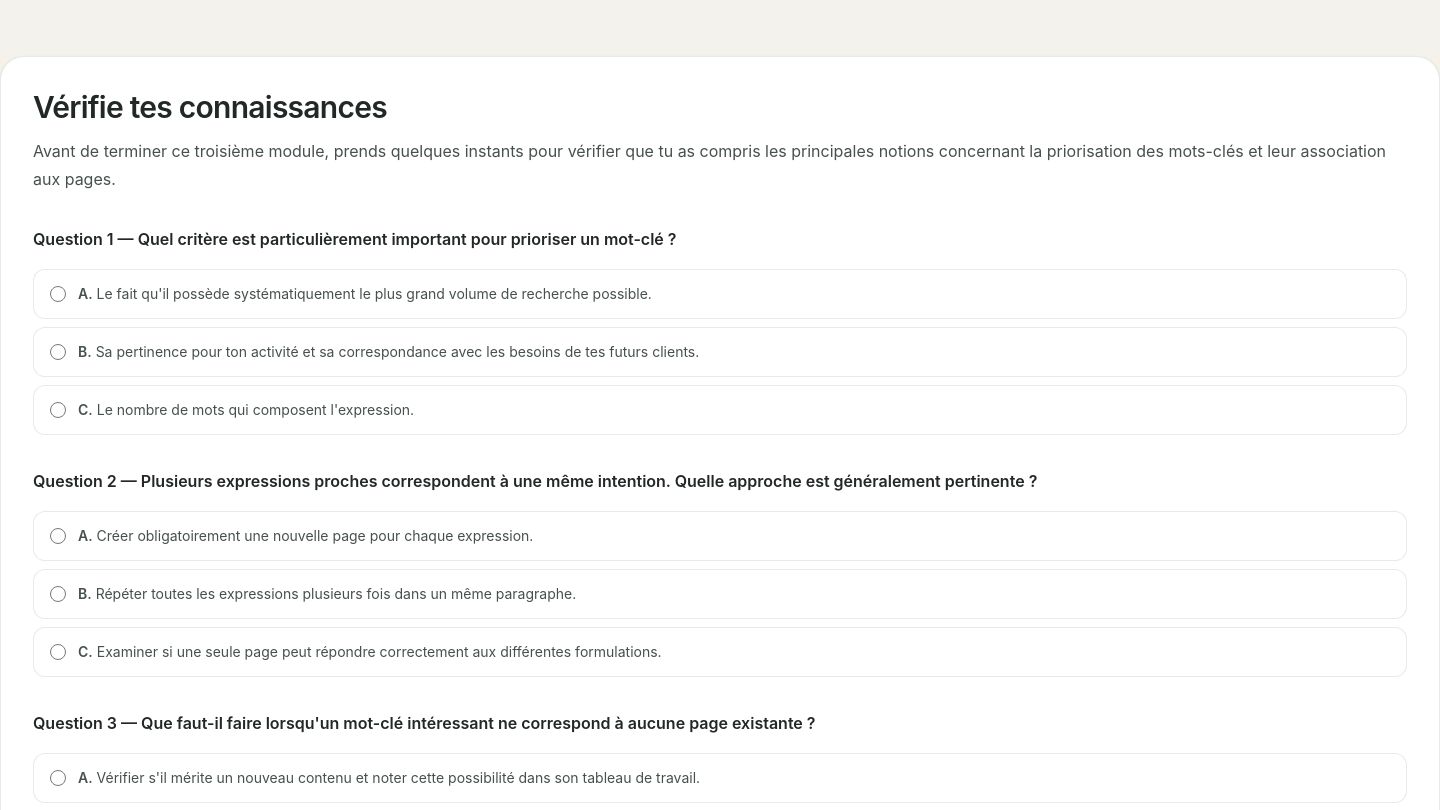
Test: questionnaire de la neuvième leçon SEO › corrige les quatre questions après validation
Expected: the text "Question 4 : C." is not shown
Click the radio button named "quiz-question-1" at (58, 352), box [50,344,66,360]
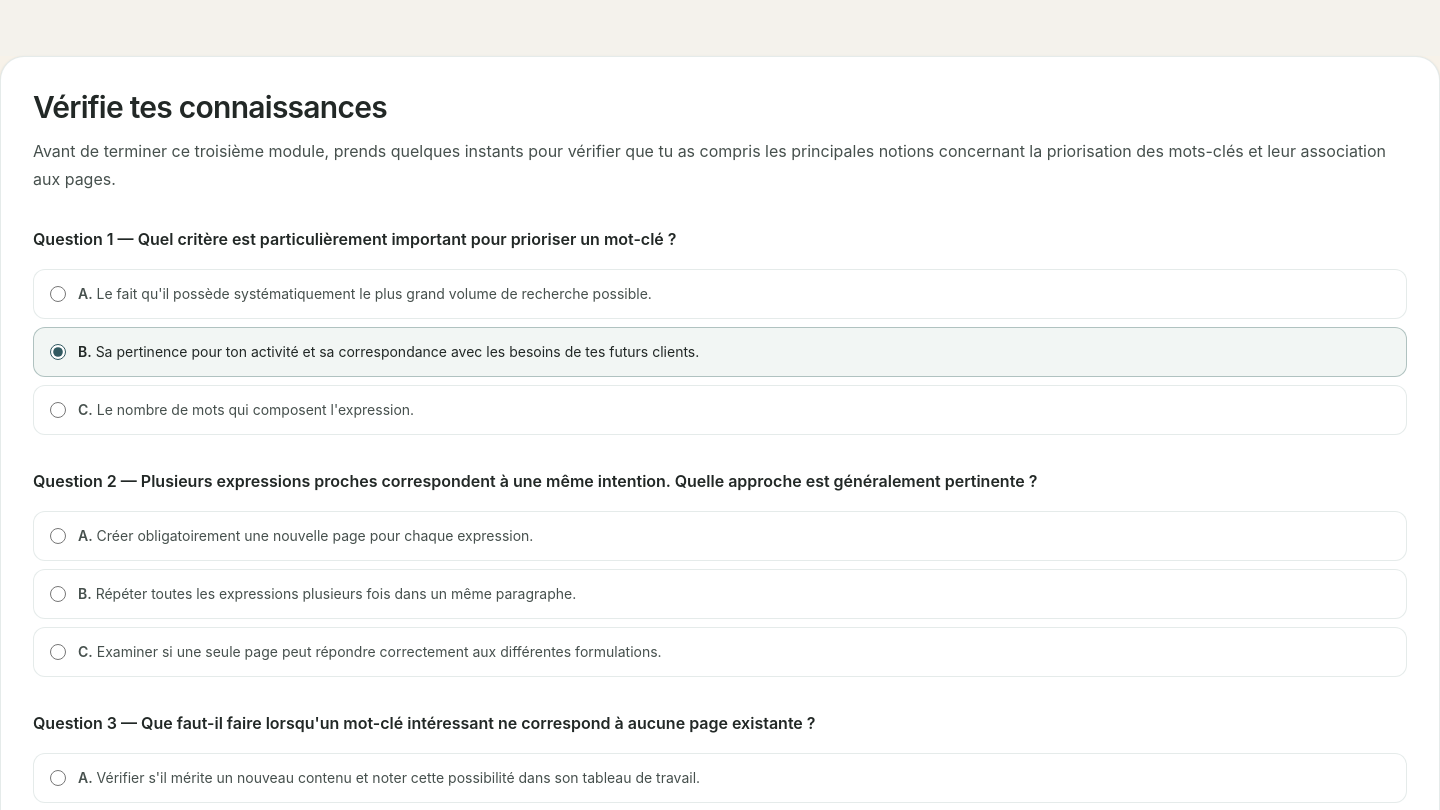
Click the radio button named "quiz-question-2" at (58, 652), box [50,644,66,660]
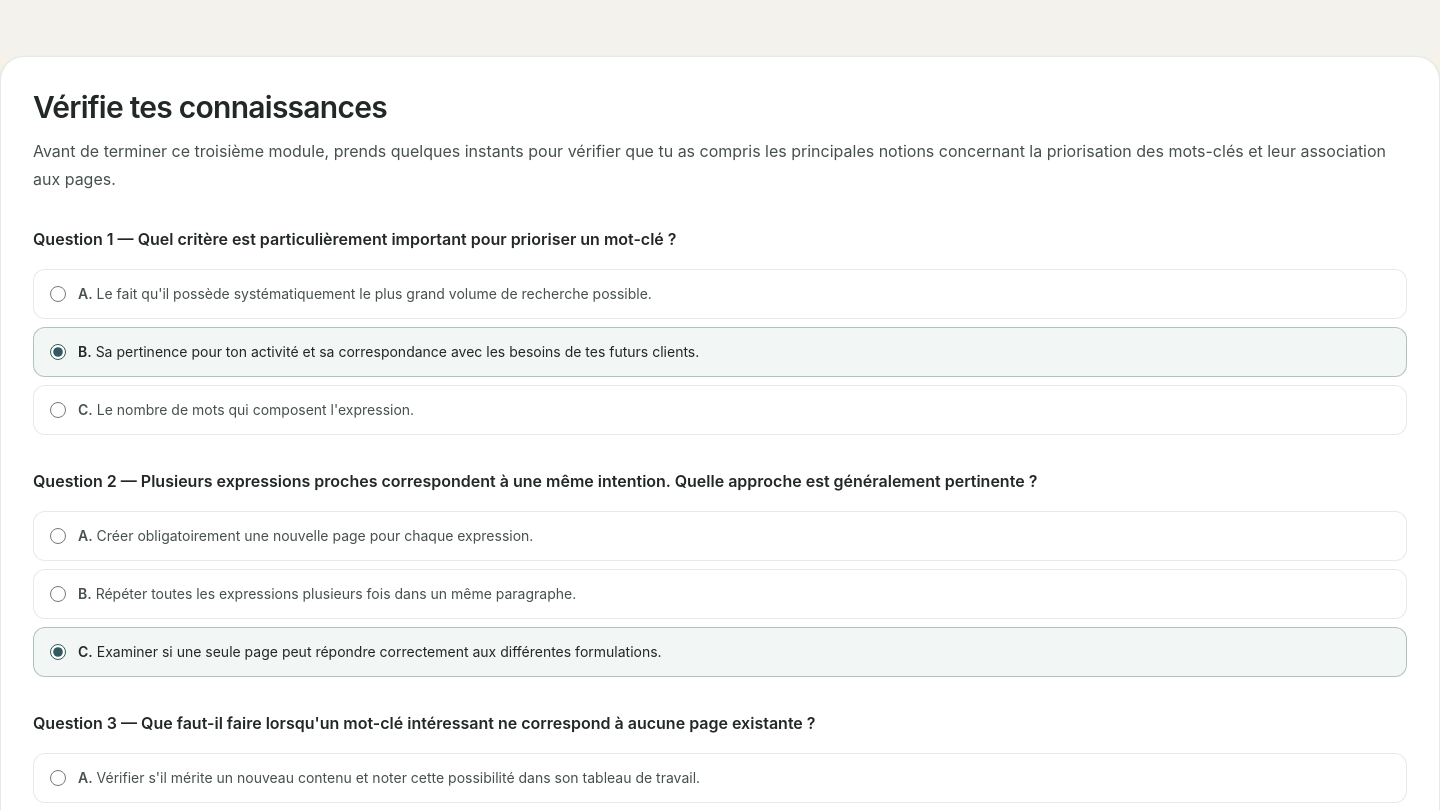
Click the radio button named "quiz-question-3" at (58, 778), box [50,770,66,786]
(page scrolled)
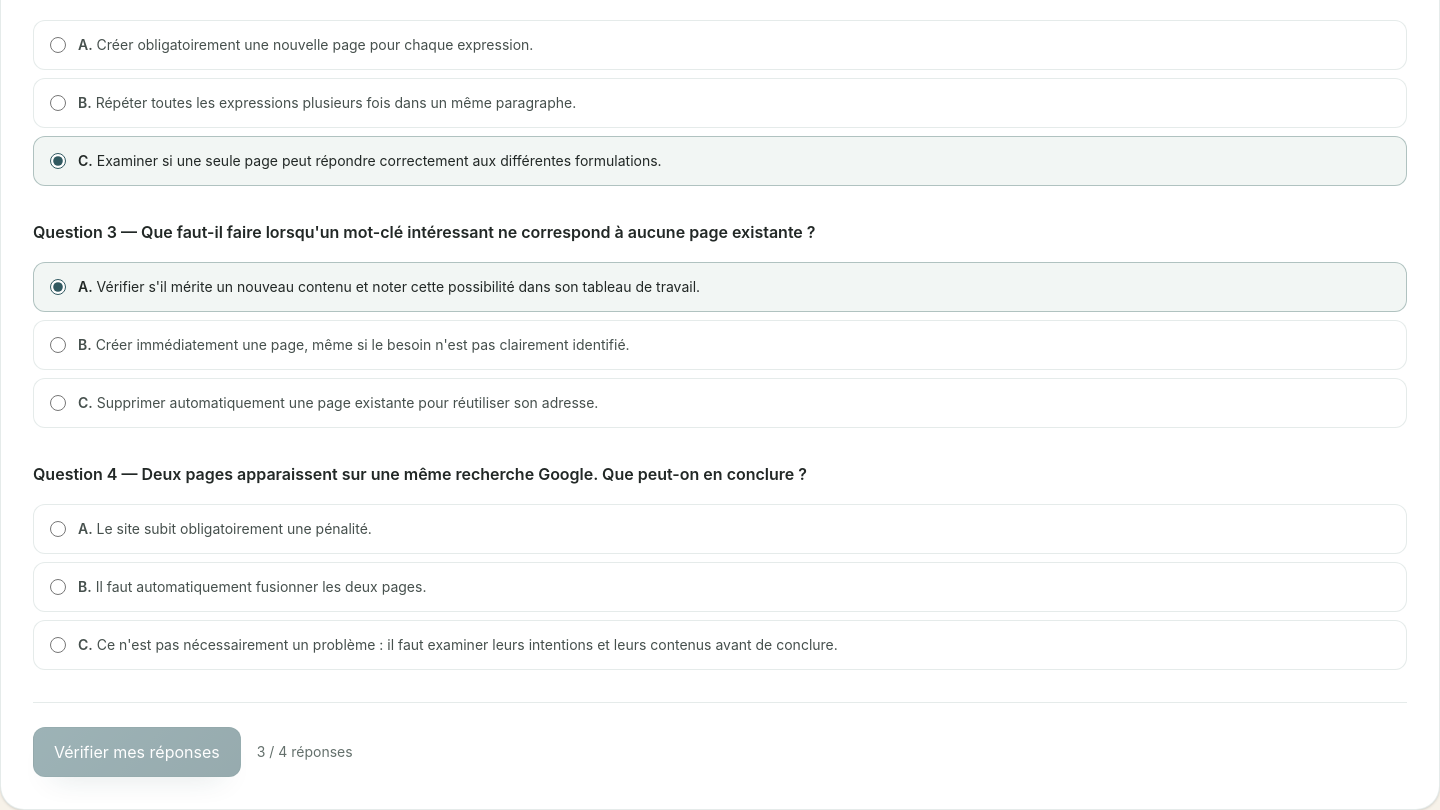
Click the radio button named "quiz-question-4" at (58, 645), box [50,637,66,653]
(page scrolled)
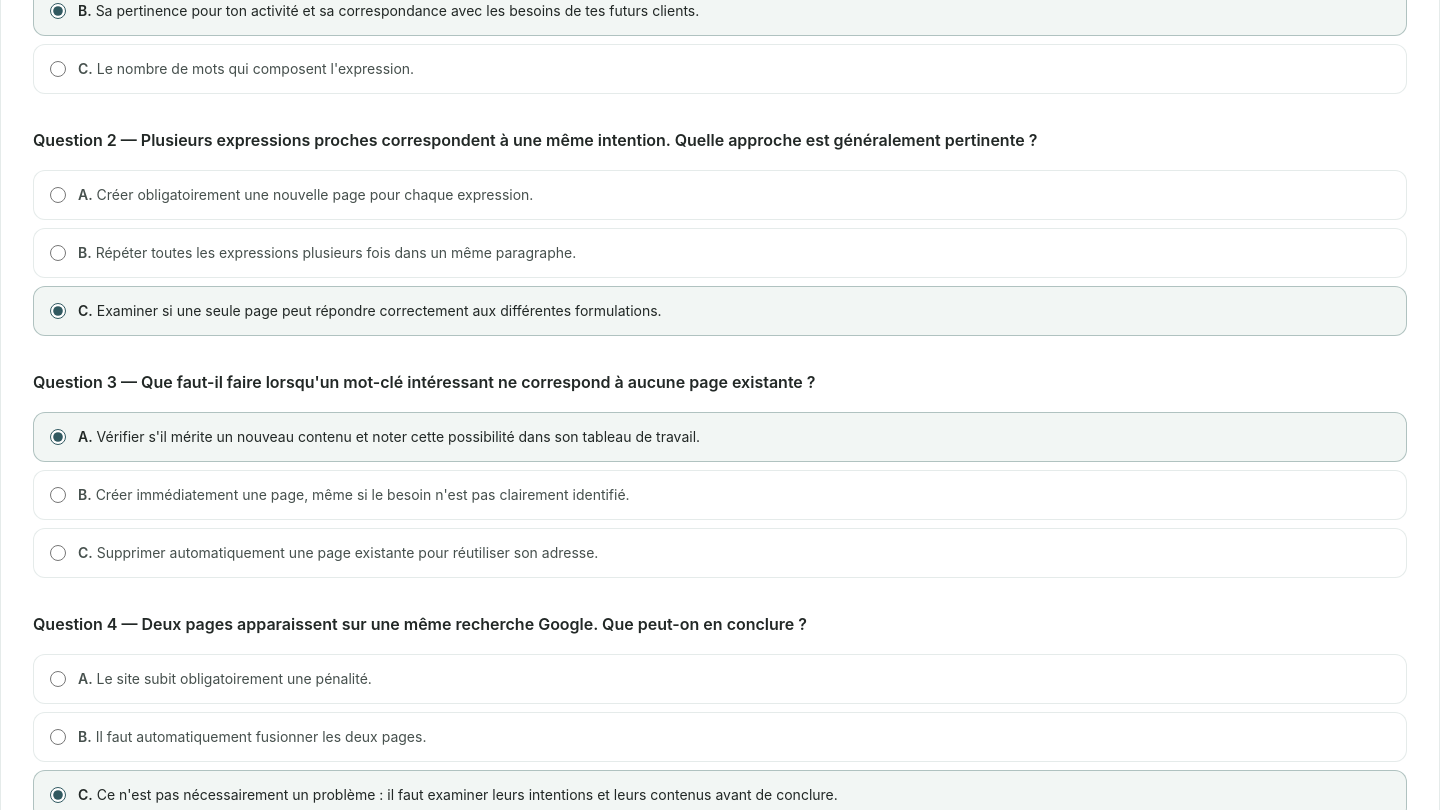
Submit the form
(page scrolled)
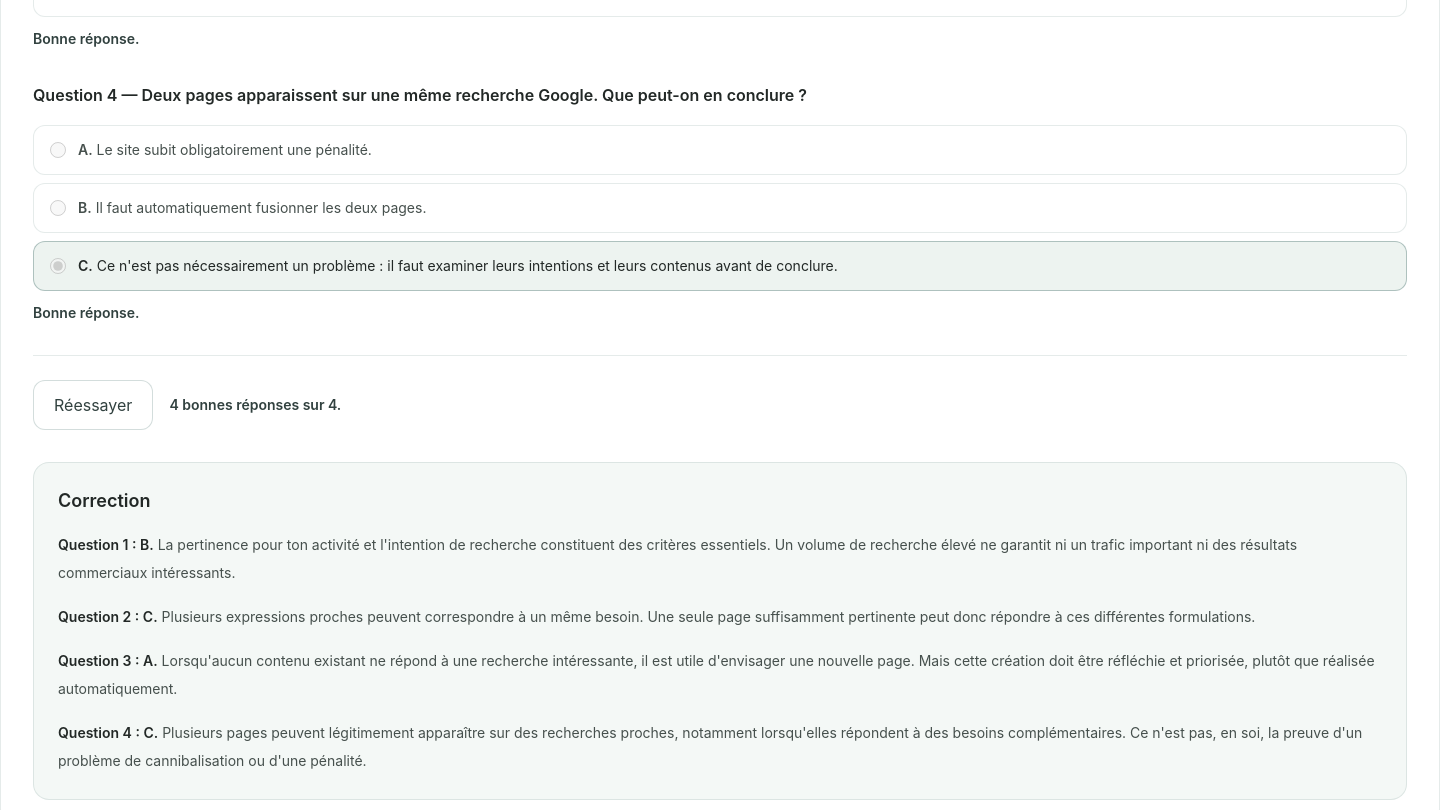
Expected: the message "4 bonnes réponses sur 4." is shown, [169,395,341,415]
Expected: the text "Question 4 : C." is shown, [58,724,158,741]
Expected: the text "preuve d'un problème de cannibalisation" is shown, [58,724,1362,769]
